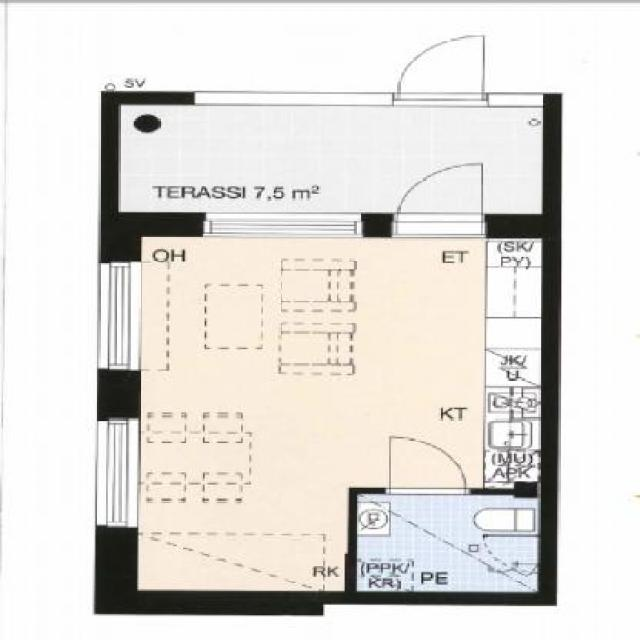door: (392, 158, 492, 237), (400, 26, 491, 106), (384, 434, 474, 498)
window: (94, 262, 140, 369), (98, 423, 140, 532), (205, 214, 362, 237)
zone: (142, 232, 540, 590), (114, 101, 540, 214), (357, 494, 543, 594)
